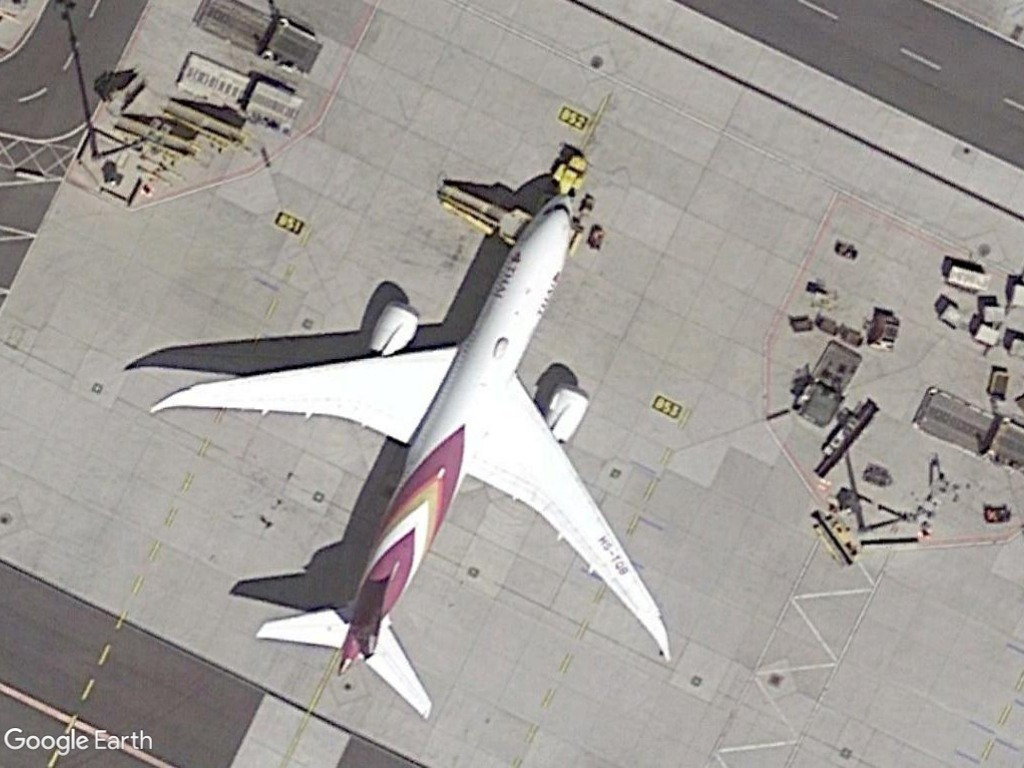airliner: (142, 184, 676, 715)
stairtruck: (434, 176, 531, 246)
